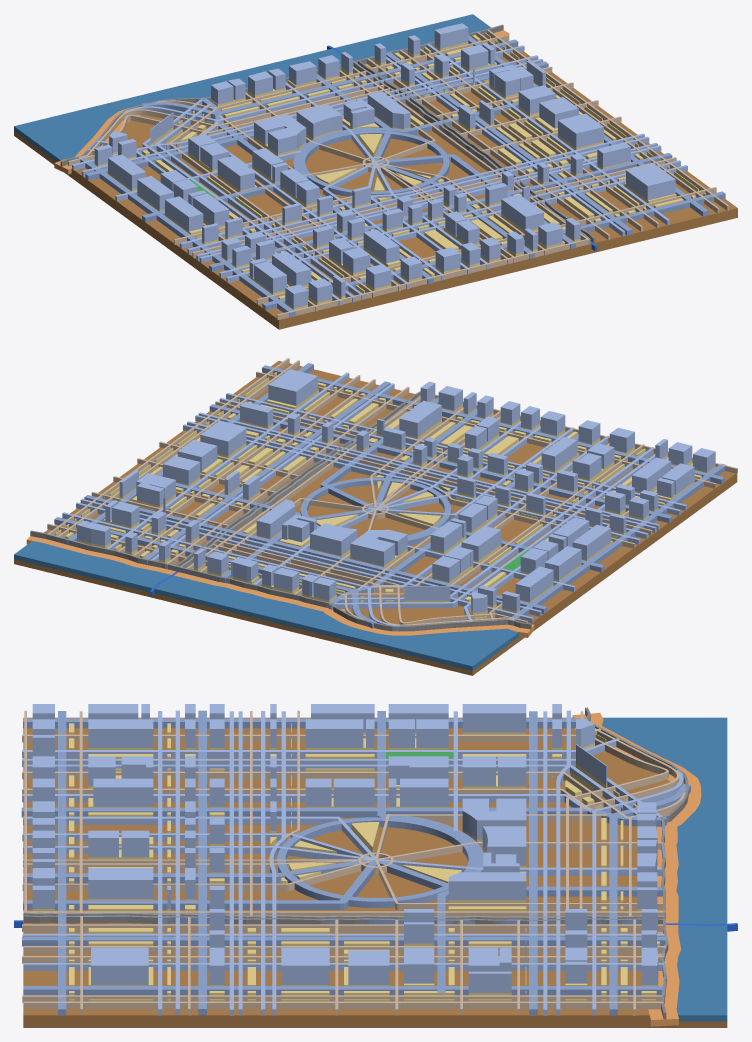
File: city.glb
The picture shows the model from 3 angles, top to bottom: view 1: azimuth 30°, elevation 25°; view 2: azimuth 150°, elevation 25°; view 3: azimuth 270°, elevation 25°; orthographic projection. The views are drawn at different scales.
Parts seen in each view (by area): view 1: buildings_divided, minor_roads, major_roads, ground, main_roads, blocks, sea, water_roads, water_roads_secondary, coastline; view 2: buildings_divided, major_roads, minor_roads, main_roads, ground, blocks, sea, water_roads, coastline, water_roads_secondary; view 3: buildings_divided, minor_roads, ground, main_roads, major_roads, sea, blocks, coastline, water_roads, water_roads_secondary.
Part boxes in pixels (box(x1,y1,x2,y2)): buildings_divided: box(94, 23, 675, 308); minor_roads: box(68, 29, 728, 319); major_roads: box(72, 43, 687, 305); ground: box(14, 35, 737, 329); main_roads: box(70, 29, 725, 317); blocks: box(94, 32, 706, 310); sea: box(14, 14, 490, 161); water_roads: box(60, 24, 595, 242); water_roads_secondary: box(353, 61, 590, 243); coastline: box(54, 26, 509, 174); buildings_divided: box(77, 369, 715, 612); major_roads: box(62, 372, 686, 631); minor_roads: box(47, 358, 737, 625); main_roads: box(46, 363, 726, 631); ground: box(14, 361, 737, 675); blocks: box(55, 372, 715, 619); sea: box(14, 541, 519, 670); water_roads: box(30, 391, 531, 631); coastline: box(26, 536, 534, 637); water_roads_secondary: box(180, 395, 420, 567); buildings_divided: box(32, 704, 658, 992); minor_roads: box(22, 710, 685, 1015); ground: box(23, 717, 727, 1027); main_roads: box(21, 710, 690, 1015); major_roads: box(22, 710, 683, 1015); sea: box(602, 717, 727, 1021); blocks: box(32, 723, 659, 1001); coastline: box(572, 712, 701, 1026); water_roads: box(24, 707, 688, 1019); water_roads_secondary: box(23, 912, 663, 919).
Size of the model in its own units: 103 by 6 by 103.
